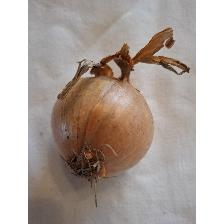Zwiebel: (49, 42, 155, 184)
